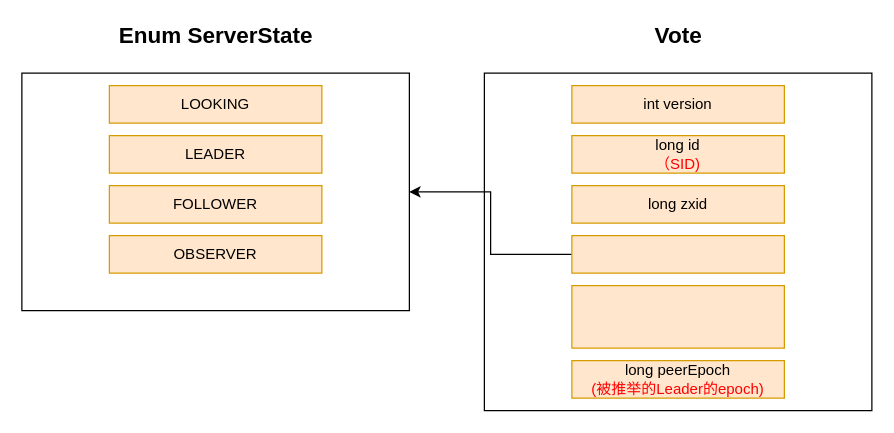
This 894x433 diagram has some shape labels left out. The shapes that lost their labels are listed below. From the top down, each one's centre as x and y in pixels, then its label:
the point at 677,253: ServerState state
the point at 677,316: long electionEpoch （自增,用于区分投票轮次，每经过一轮投票，都加1）
